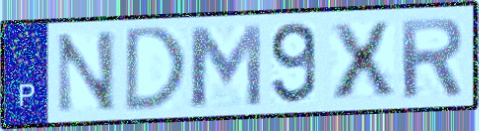9: (267, 20, 319, 106)
D: (121, 23, 190, 116)
M: (185, 21, 265, 110)
N: (54, 28, 119, 117)
R: (396, 14, 466, 101)
X: (327, 19, 399, 103)
